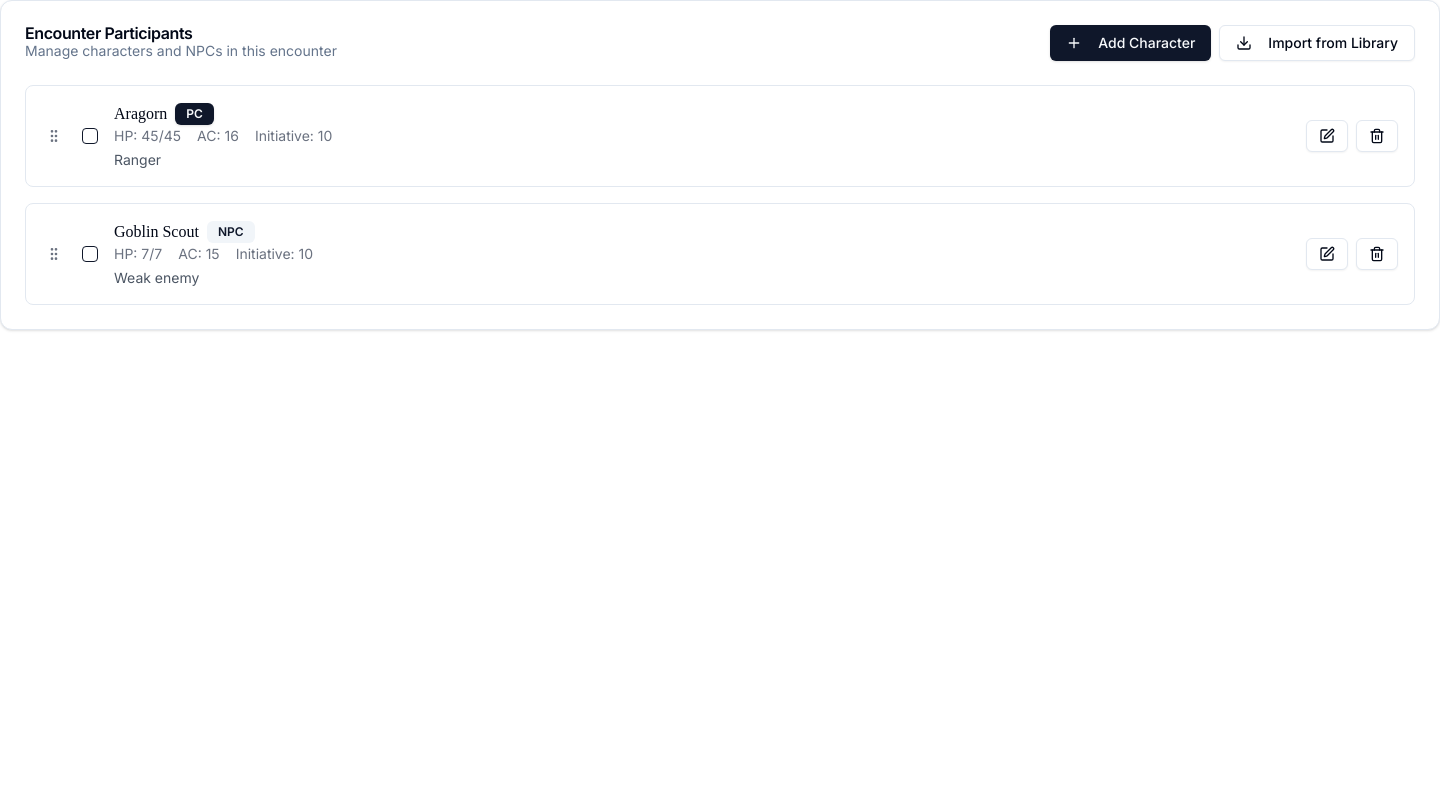
Test: EncounterParticipantManager › Editing Participants › should show edit form when edit button is clicked
Click the button named "Edit participant" at [1327, 136], box [1306,120,1348,152]
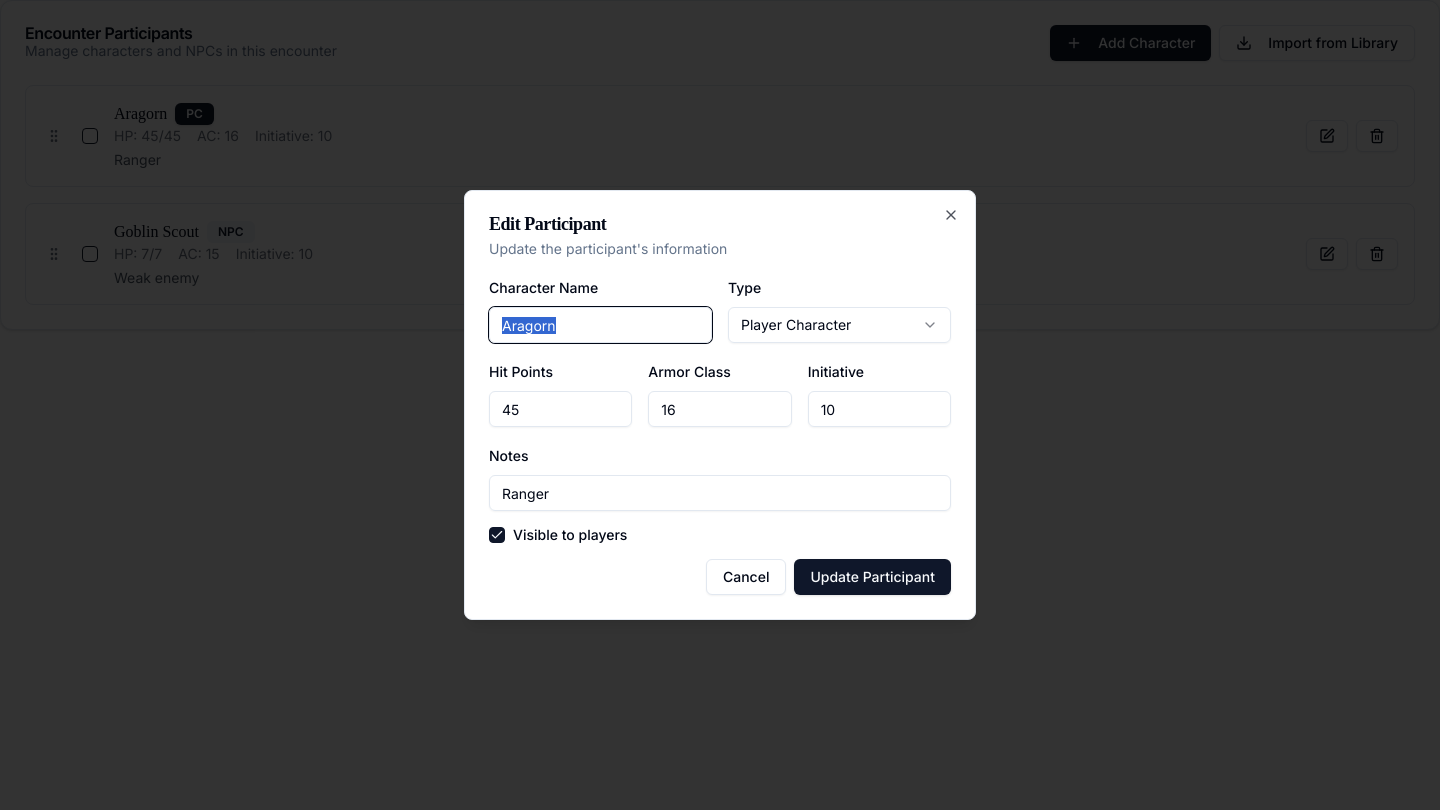
Result: the heading "Edit Participant" is shown at [489,214,606,234]
Result: the field showing "Aragorn" is shown at [489,307,712,343]
Result: the number field showing "45" is shown at [489,391,632,427]
